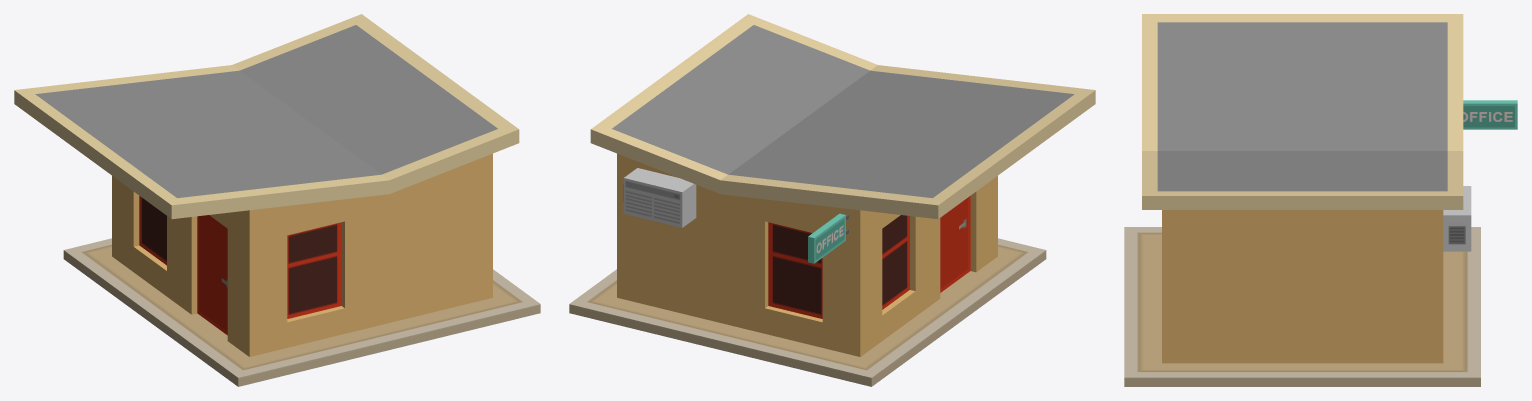
Rendered from west_fangzi04.FBX.
3 views of the same model, side by side, from view 1: azimuth 30°, elevation 25°; view 2: azimuth 150°, elevation 25°; view 3: azimuth 270°, elevation 25° (orthographic). The views are drawn at different scales.
Visible parts, largest first — view 1: west_fangzi04; view 2: west_fangzi04; view 3: west_fangzi04.
Boxes of the visible parts, bbox=[...] form: west_fangzi04: bbox=[14, 14, 540, 386]; west_fangzi04: bbox=[569, 14, 1095, 386]; west_fangzi04: bbox=[1124, 14, 1517, 386].
Size of the model in its own units: 2022 by 1016 by 1871.
